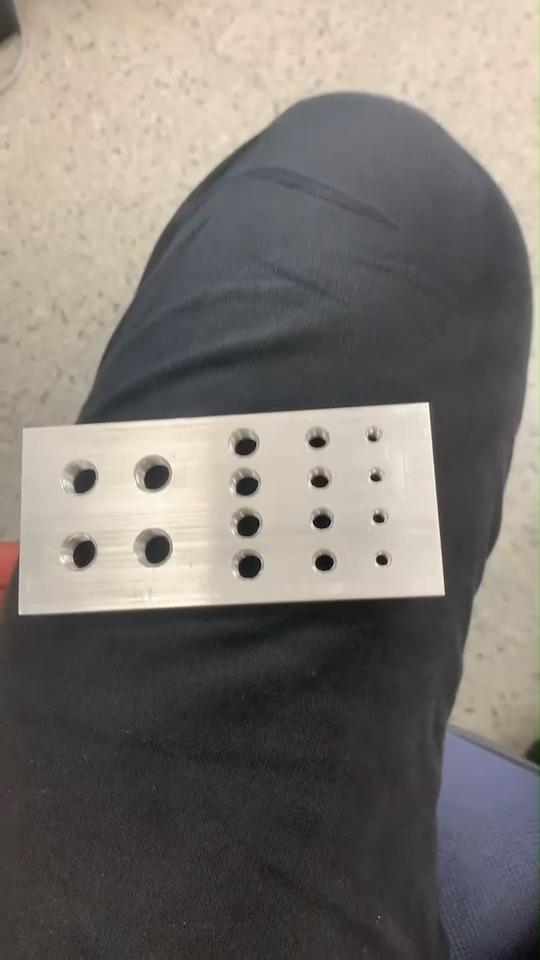hole: (58, 454, 102, 499), (133, 526, 177, 570), (132, 454, 174, 496), (59, 532, 99, 574), (228, 425, 264, 460), (230, 550, 268, 582), (230, 506, 264, 538), (229, 468, 265, 498), (306, 506, 336, 534), (305, 464, 334, 492), (310, 550, 338, 578), (303, 426, 333, 452), (362, 422, 384, 446), (365, 465, 387, 487), (369, 508, 389, 530), (373, 550, 392, 572)
